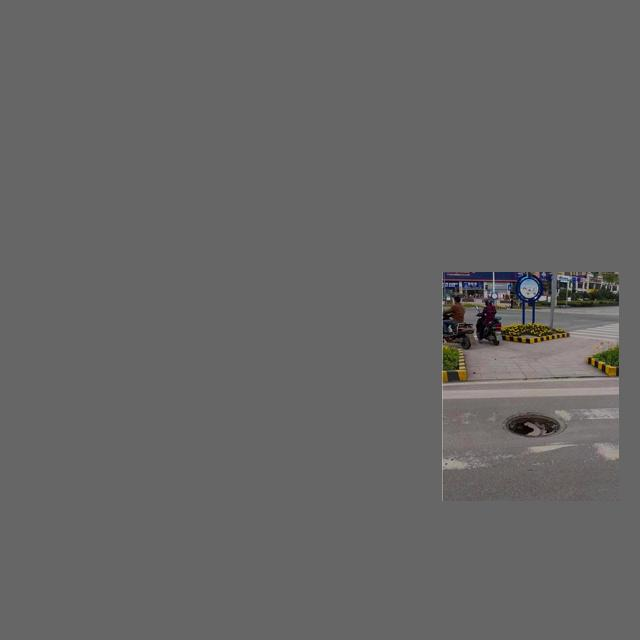broke: (498, 403, 573, 445)
